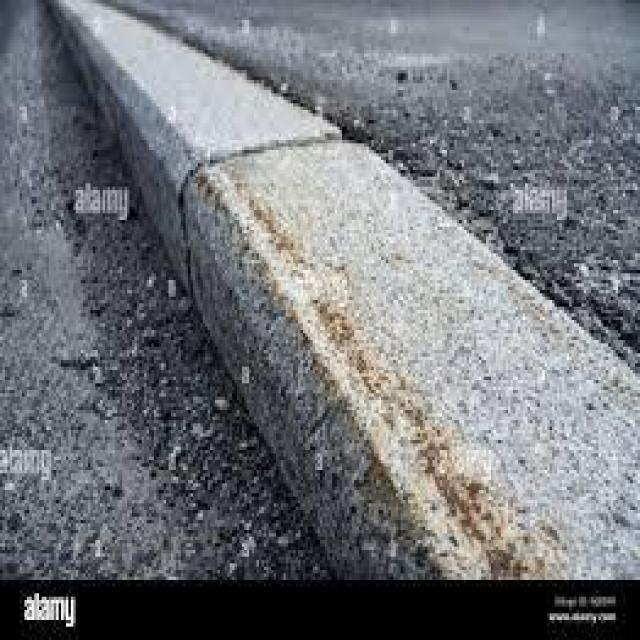curb: (183, 137, 640, 586), (65, 8, 342, 311)
